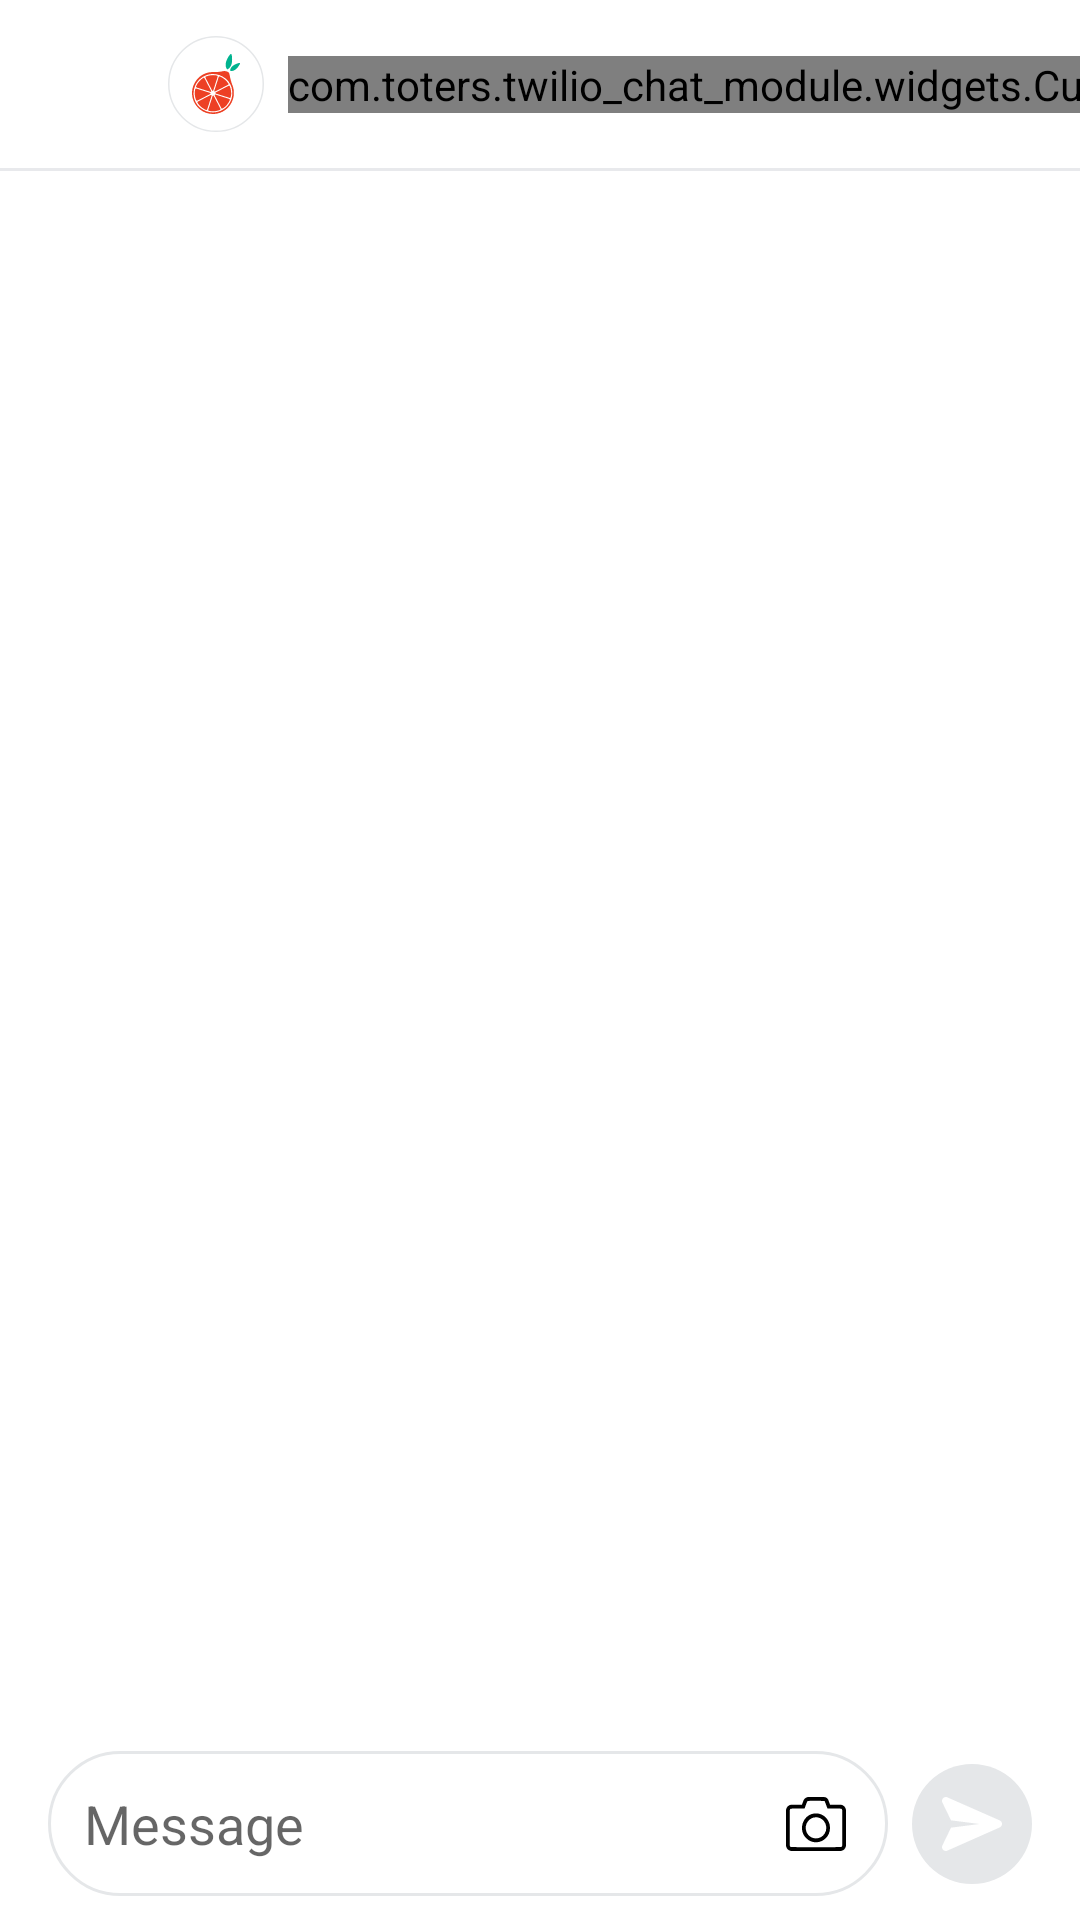

Icon bounding boxes for this 1080*1920 phone screenshot, format (x1, y1, x2, y2):
camera chat: (786, 1797, 846, 1851)
send message: (912, 1764, 1032, 1884)
